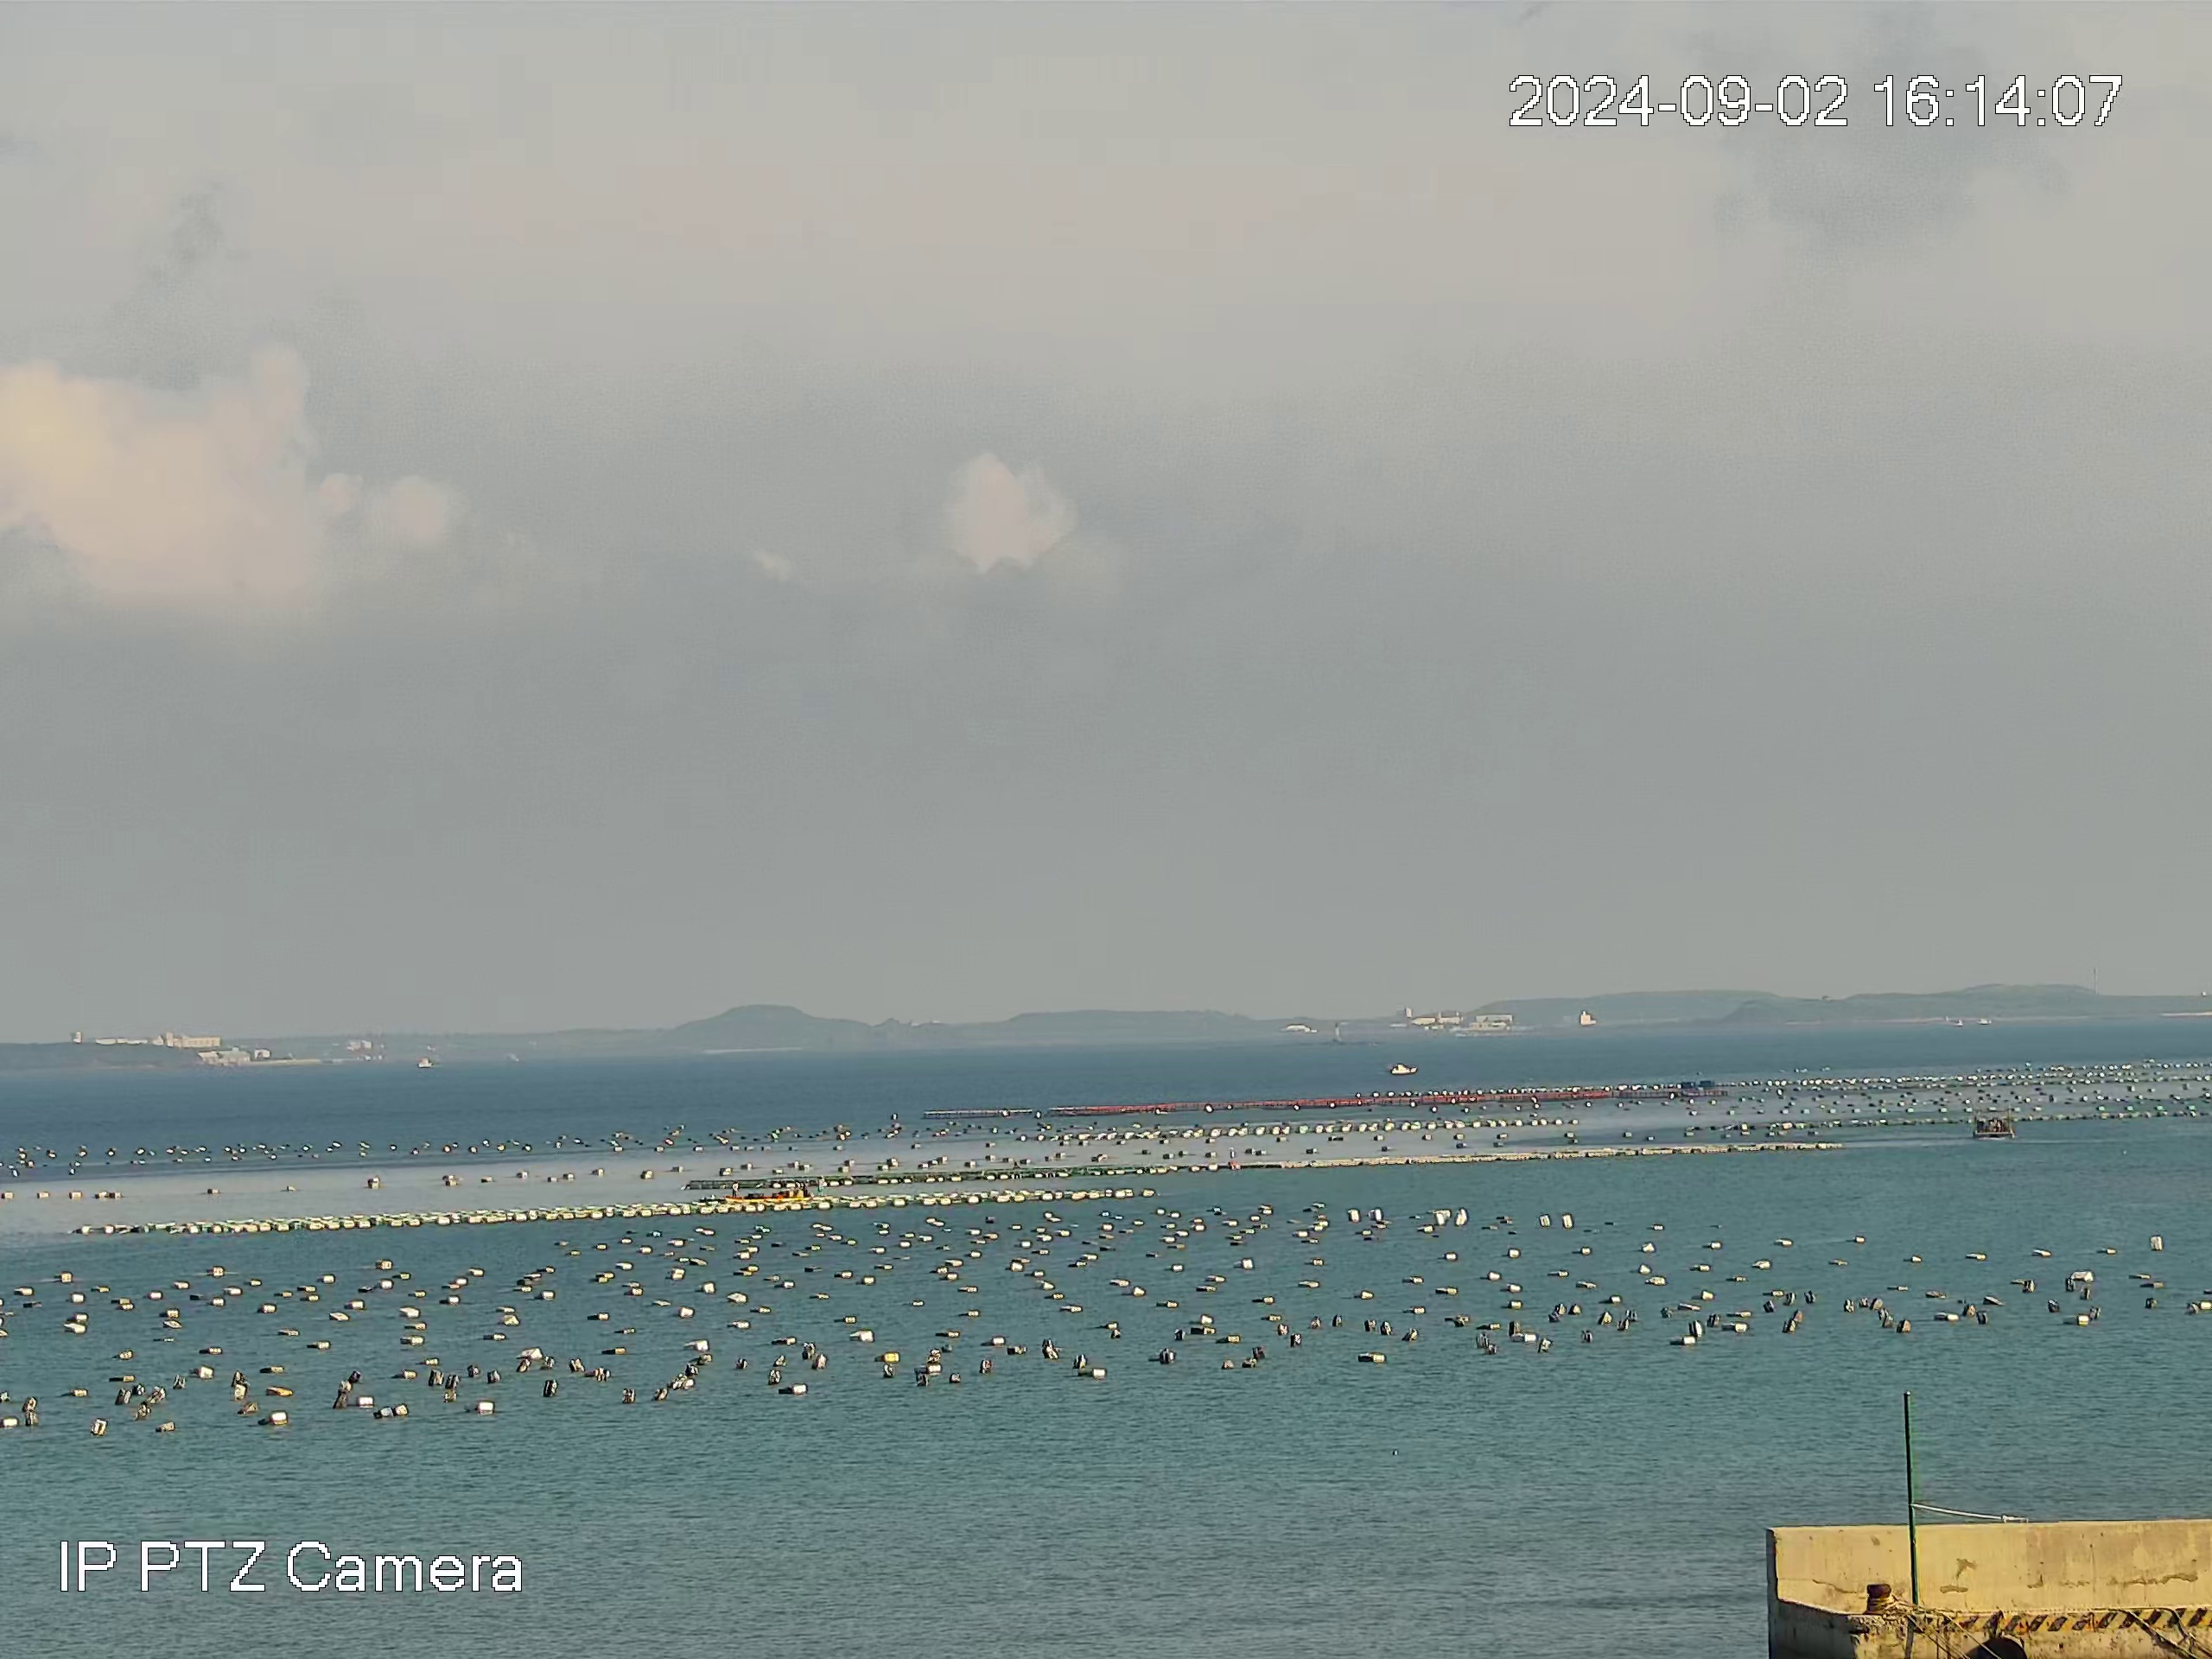boat: (723, 1178, 812, 1204), (1970, 1108, 2017, 1141), (1388, 1061, 1420, 1075)
